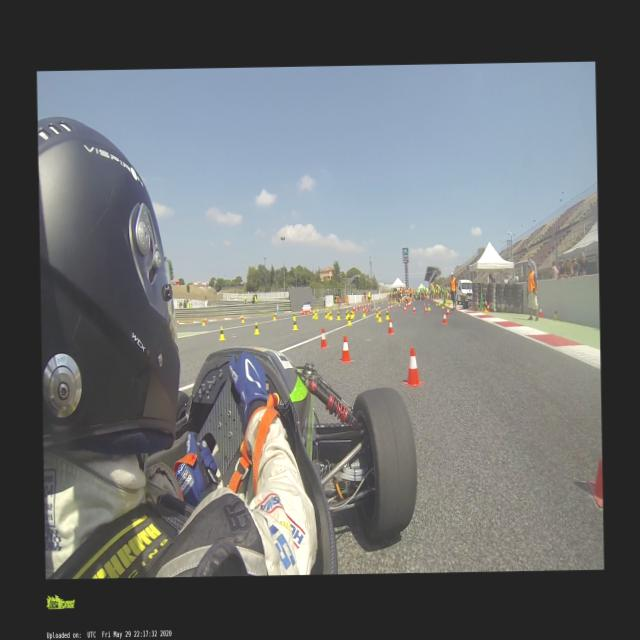orange_cone: (586, 423, 602, 506), (402, 346, 423, 387), (338, 335, 352, 362), (318, 328, 328, 348), (386, 319, 394, 334), (485, 302, 490, 312), (442, 312, 446, 324), (538, 306, 542, 317), (446, 306, 450, 316), (402, 305, 407, 313), (412, 305, 416, 313), (424, 306, 427, 314), (274, 310, 277, 318), (377, 304, 380, 312), (390, 304, 393, 310), (387, 305, 390, 310), (398, 302, 400, 308), (204, 316, 206, 322), (240, 314, 242, 320), (176, 320, 178, 324)
unknown_cone: (276, 304, 279, 314)
yellow_cone: (218, 326, 225, 340), (253, 321, 259, 334), (292, 318, 298, 330), (376, 310, 382, 322), (552, 307, 558, 319), (346, 315, 351, 325), (336, 310, 340, 320), (384, 310, 388, 320), (374, 308, 378, 318), (291, 312, 295, 321), (240, 314, 244, 322), (272, 312, 276, 320), (344, 310, 348, 318), (349, 310, 353, 318), (201, 318, 205, 325), (329, 311, 332, 319), (324, 310, 327, 318), (427, 302, 430, 310), (362, 309, 365, 316), (316, 305, 319, 311), (314, 313, 317, 319), (312, 310, 314, 318), (442, 302, 444, 308)
